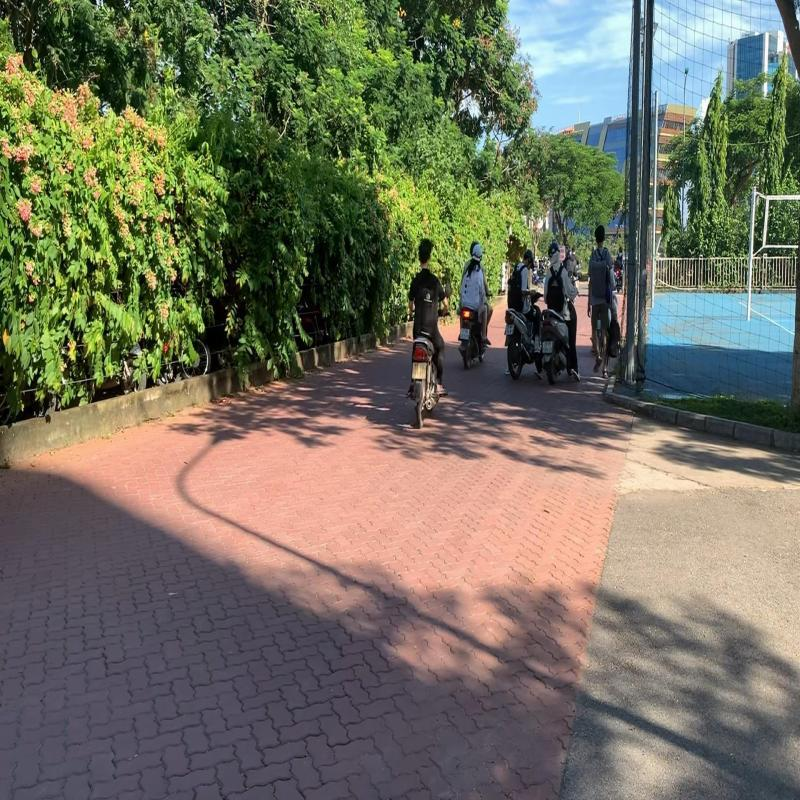nohelmet: (415, 236, 434, 268)
